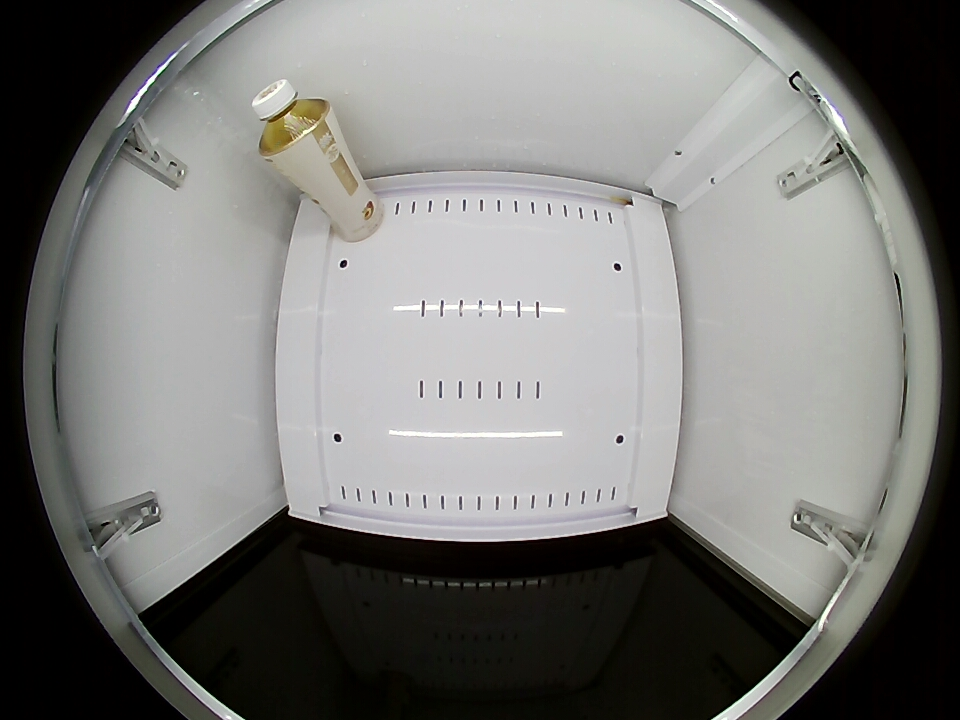rancha-2: (253, 79, 333, 162)
